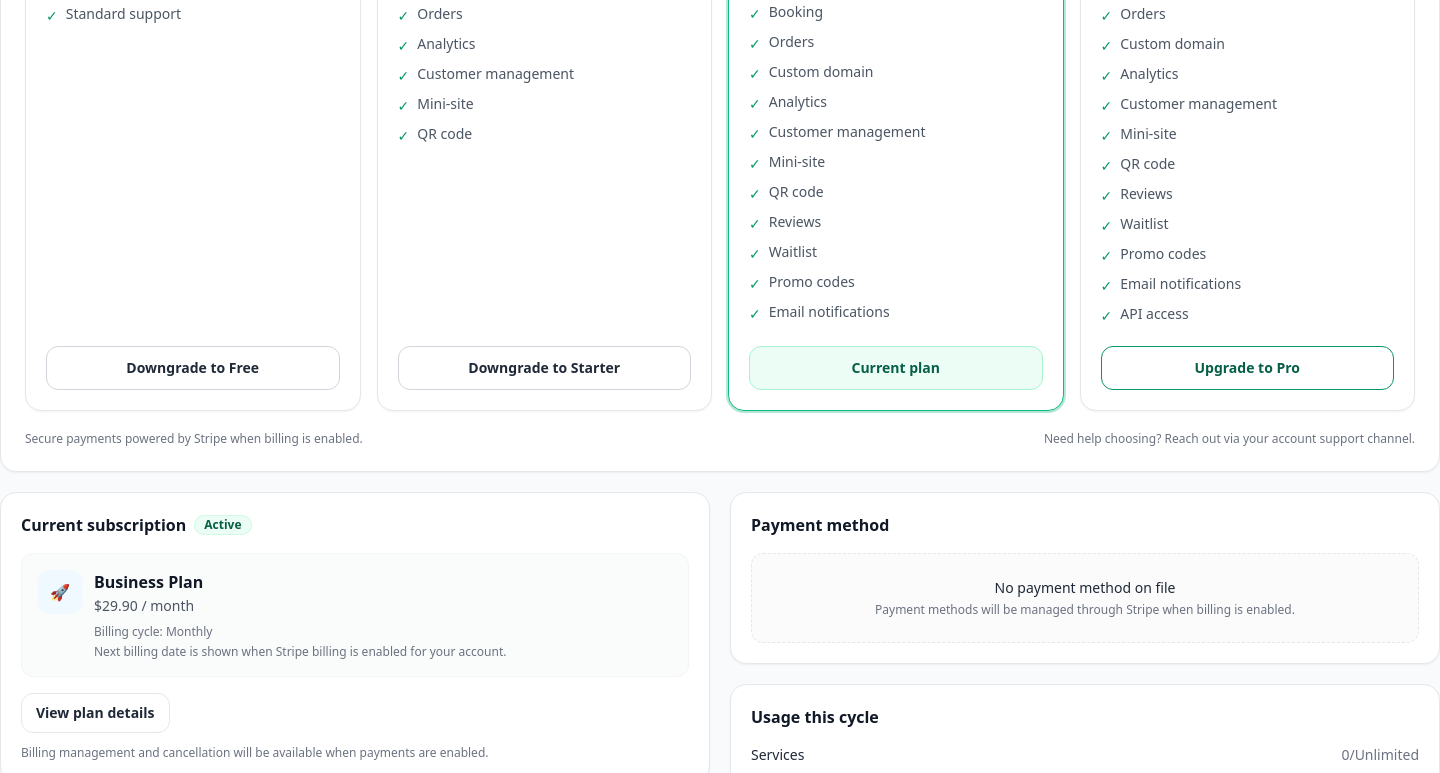
admin billing checkout › H. plan request API failure shows error, not success
(page scrolled)
Click the button with test id "admin-payments-plan-cta-starter": (544, 368) x1=398 y1=346 x2=691 y2=390
(page scrolled)
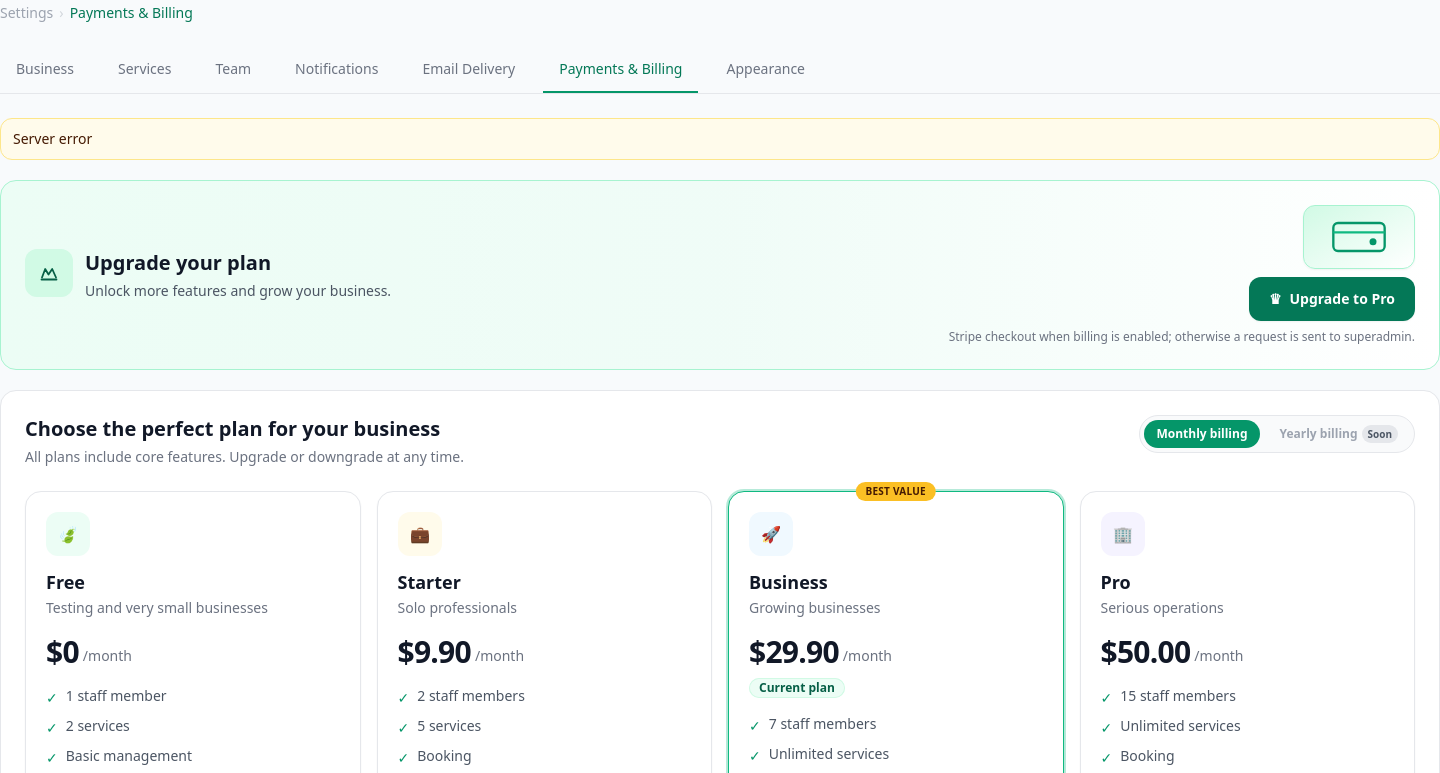
Check: the message with test id "admin-payments-action-feedback" reads "Server error", box x1=13 y1=129 x2=92 y2=148
